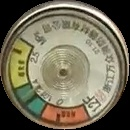green: (17, 83, 49, 118)
needle: (22, 81, 44, 101)
red: (41, 104, 91, 129)
yellow: (5, 38, 35, 87)
